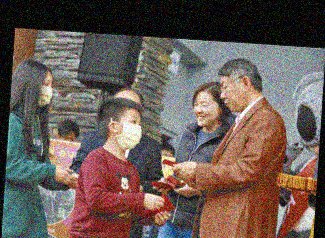with_mask: (114, 114, 142, 150), (35, 77, 53, 108)
without_mask: (217, 79, 243, 113), (191, 98, 217, 126)
